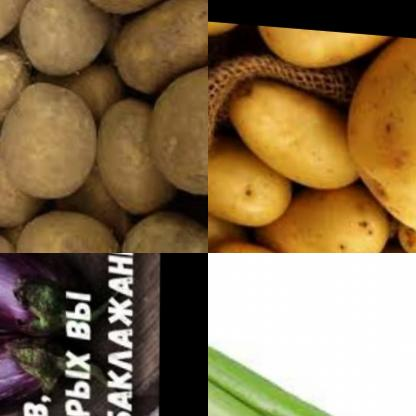celery: (208, 289, 416, 416)
eggplant: (0, 253, 95, 347), (0, 329, 87, 416)
potato: (228, 75, 396, 206), (347, 30, 416, 236), (0, 69, 101, 206), (92, 71, 177, 221), (142, 40, 208, 202), (103, 0, 208, 100), (255, 176, 391, 253), (249, 25, 413, 87), (208, 136, 300, 230), (8, 0, 105, 77), (0, 201, 123, 253), (116, 200, 208, 253), (0, 125, 39, 232), (0, 28, 36, 137), (76, 0, 183, 25), (0, 0, 34, 60)
